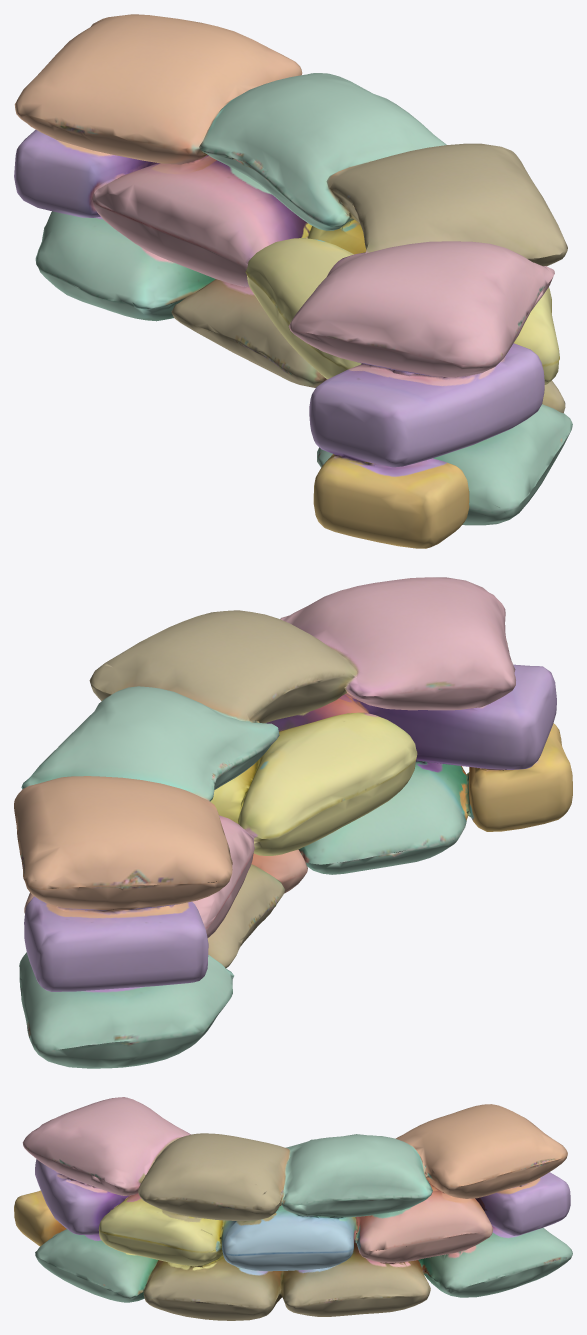
3 renders of one model, top to bottom at view 1: azimuth 30°, elevation 25°; view 2: azimuth 150°, elevation 25°; view 3: azimuth 270°, elevation 25°, orthographic. The views are drawn at different scales.
Parts seen in each view (by area): view 1: repaired; view 2: repaired; view 3: repaired.
Part boxes in pixels (box(x1,y1,x2,y2)): repaired: box(14, 14, 572, 548); repaired: box(14, 577, 572, 1068); repaired: box(14, 1097, 572, 1320).
Bounding box in the file's own units: 0.4556 × 0.3197 × 0.9997.
Materials: 1 (1 with a texture image).
